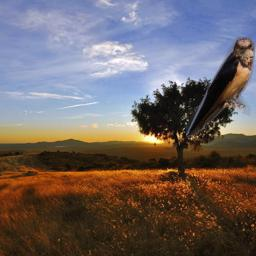Swallow: (186, 37, 255, 139)
